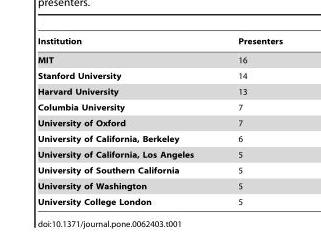table: (36, 36, 282, 206)
table column: (36, 36, 215, 206), (215, 36, 282, 206)
table column header: (36, 36, 282, 50)
table row: (36, 50, 282, 67), (36, 67, 282, 83), (36, 83, 282, 99), (36, 99, 282, 115), (36, 130, 282, 146), (36, 146, 282, 162), (36, 162, 282, 178), (36, 115, 282, 130), (36, 178, 282, 193), (36, 36, 282, 50), (36, 193, 282, 206)
